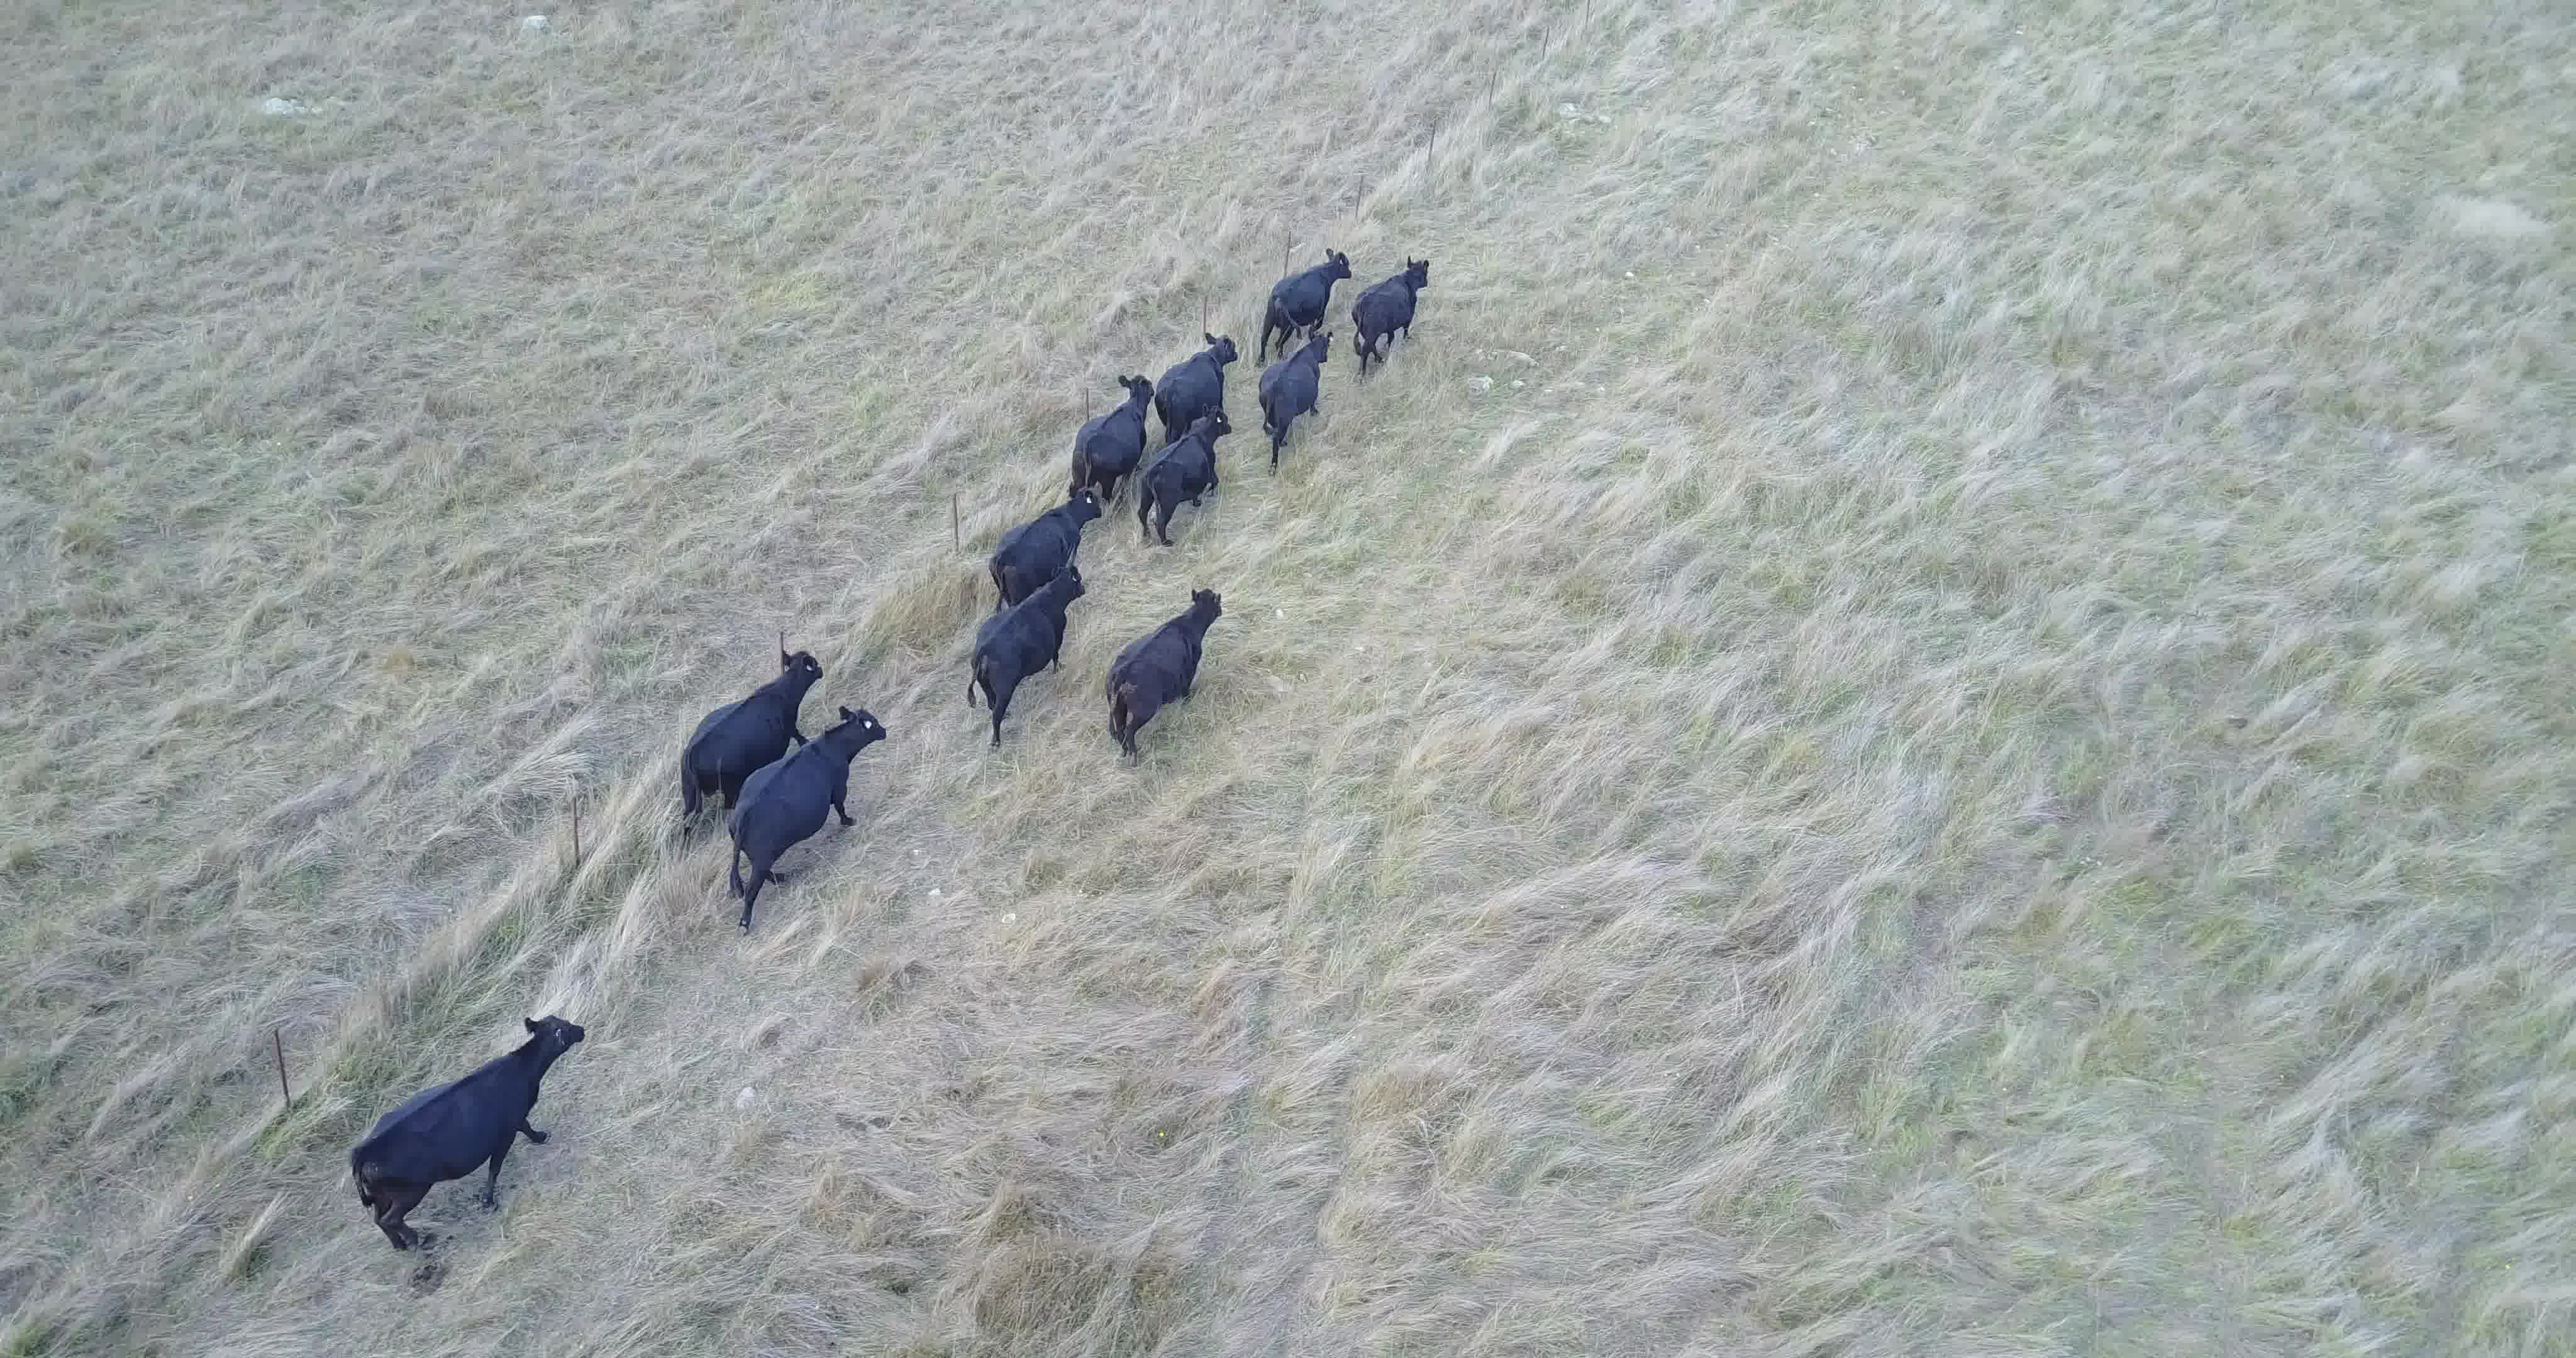cattle: (339, 1012, 603, 1257), (724, 704, 894, 942), (1097, 586, 1230, 763), (971, 566, 1087, 757), (678, 649, 826, 794), (978, 489, 1113, 608), (1136, 404, 1233, 557), (1348, 254, 1440, 390), (1254, 327, 1337, 477), (1257, 245, 1353, 368), (1070, 373, 1148, 515), (1148, 329, 1242, 440)
